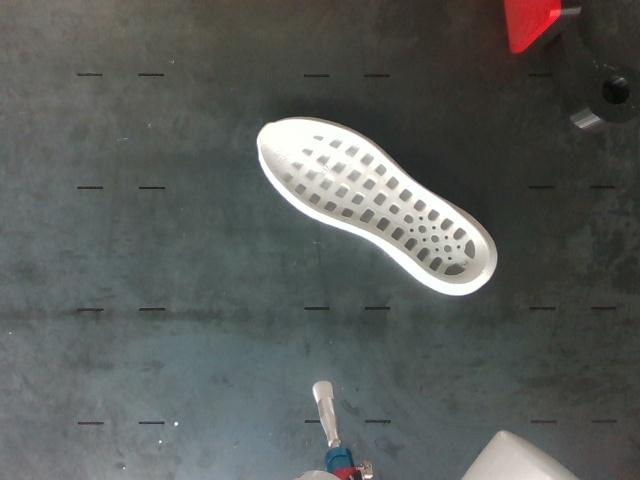shoes: (259, 118, 489, 285)
